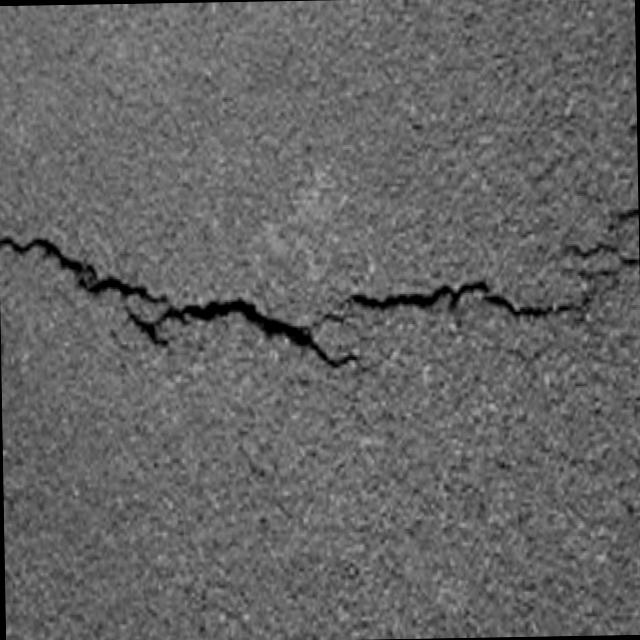crack: (0, 204, 639, 377)
